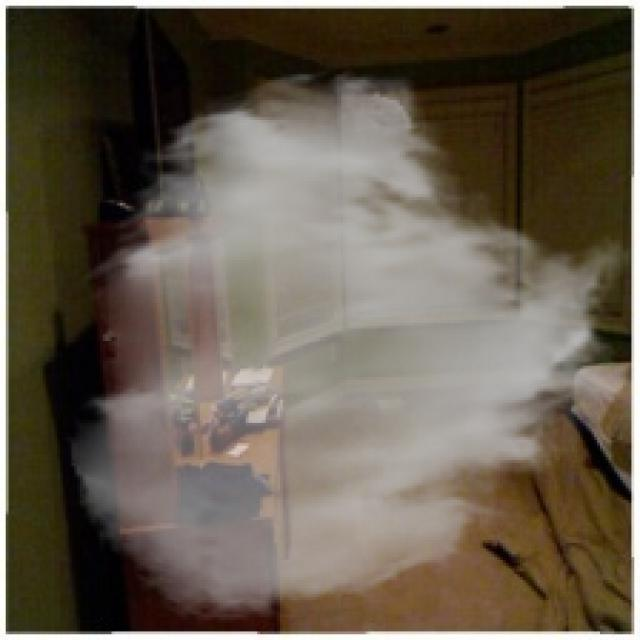Smoke: (66, 65, 634, 626)
